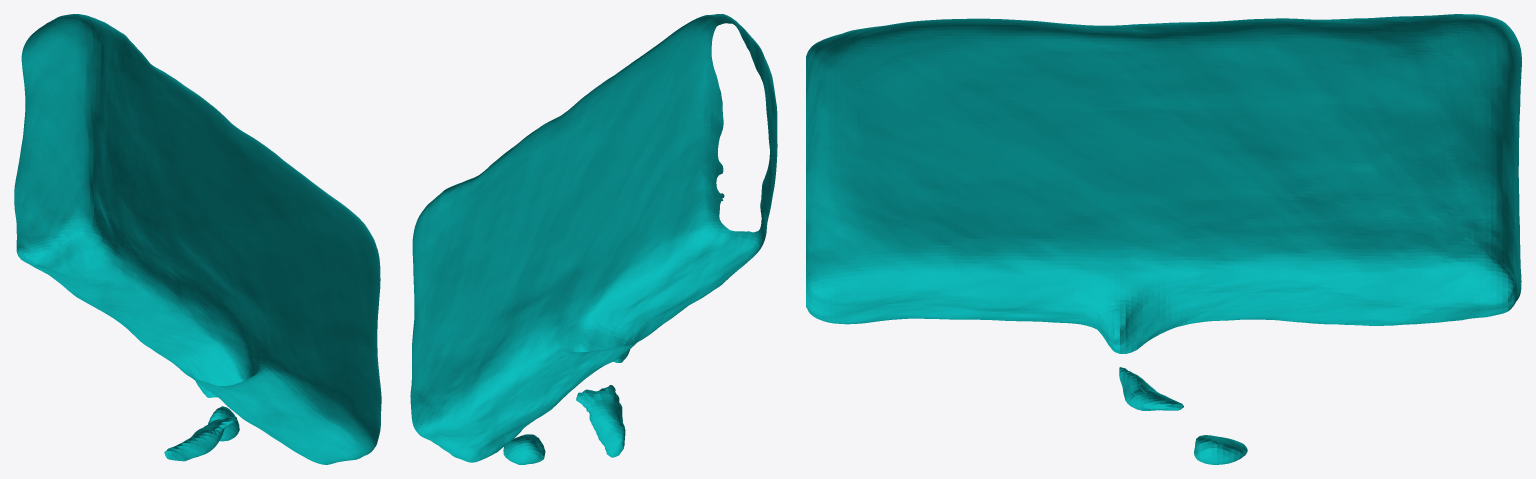
The picture shows the model from 3 angles, left to right: view 1: azimuth 30°, elevation 25°; view 2: azimuth 150°, elevation 25°; view 3: azimuth 270°, elevation 25°; orthographic projection. The views are drawn at different scales.
Bounding box in the file's own units: 0.2147 × 0.6487 × 1.03.
